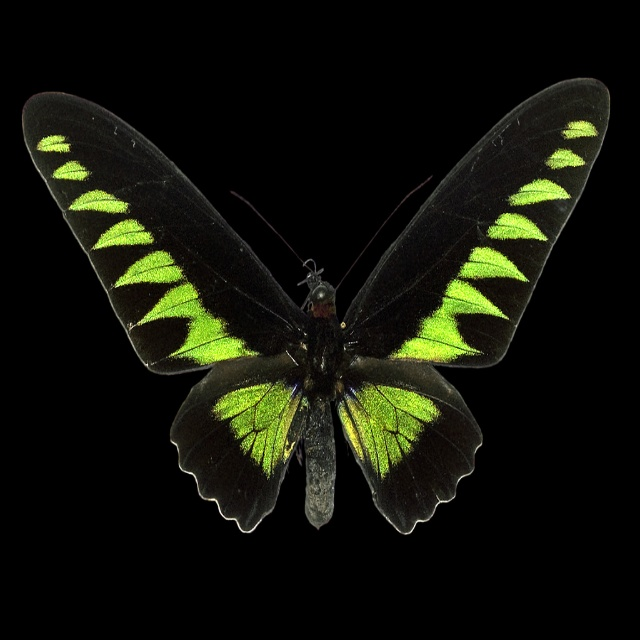Butterfly: (20, 89, 610, 536)
